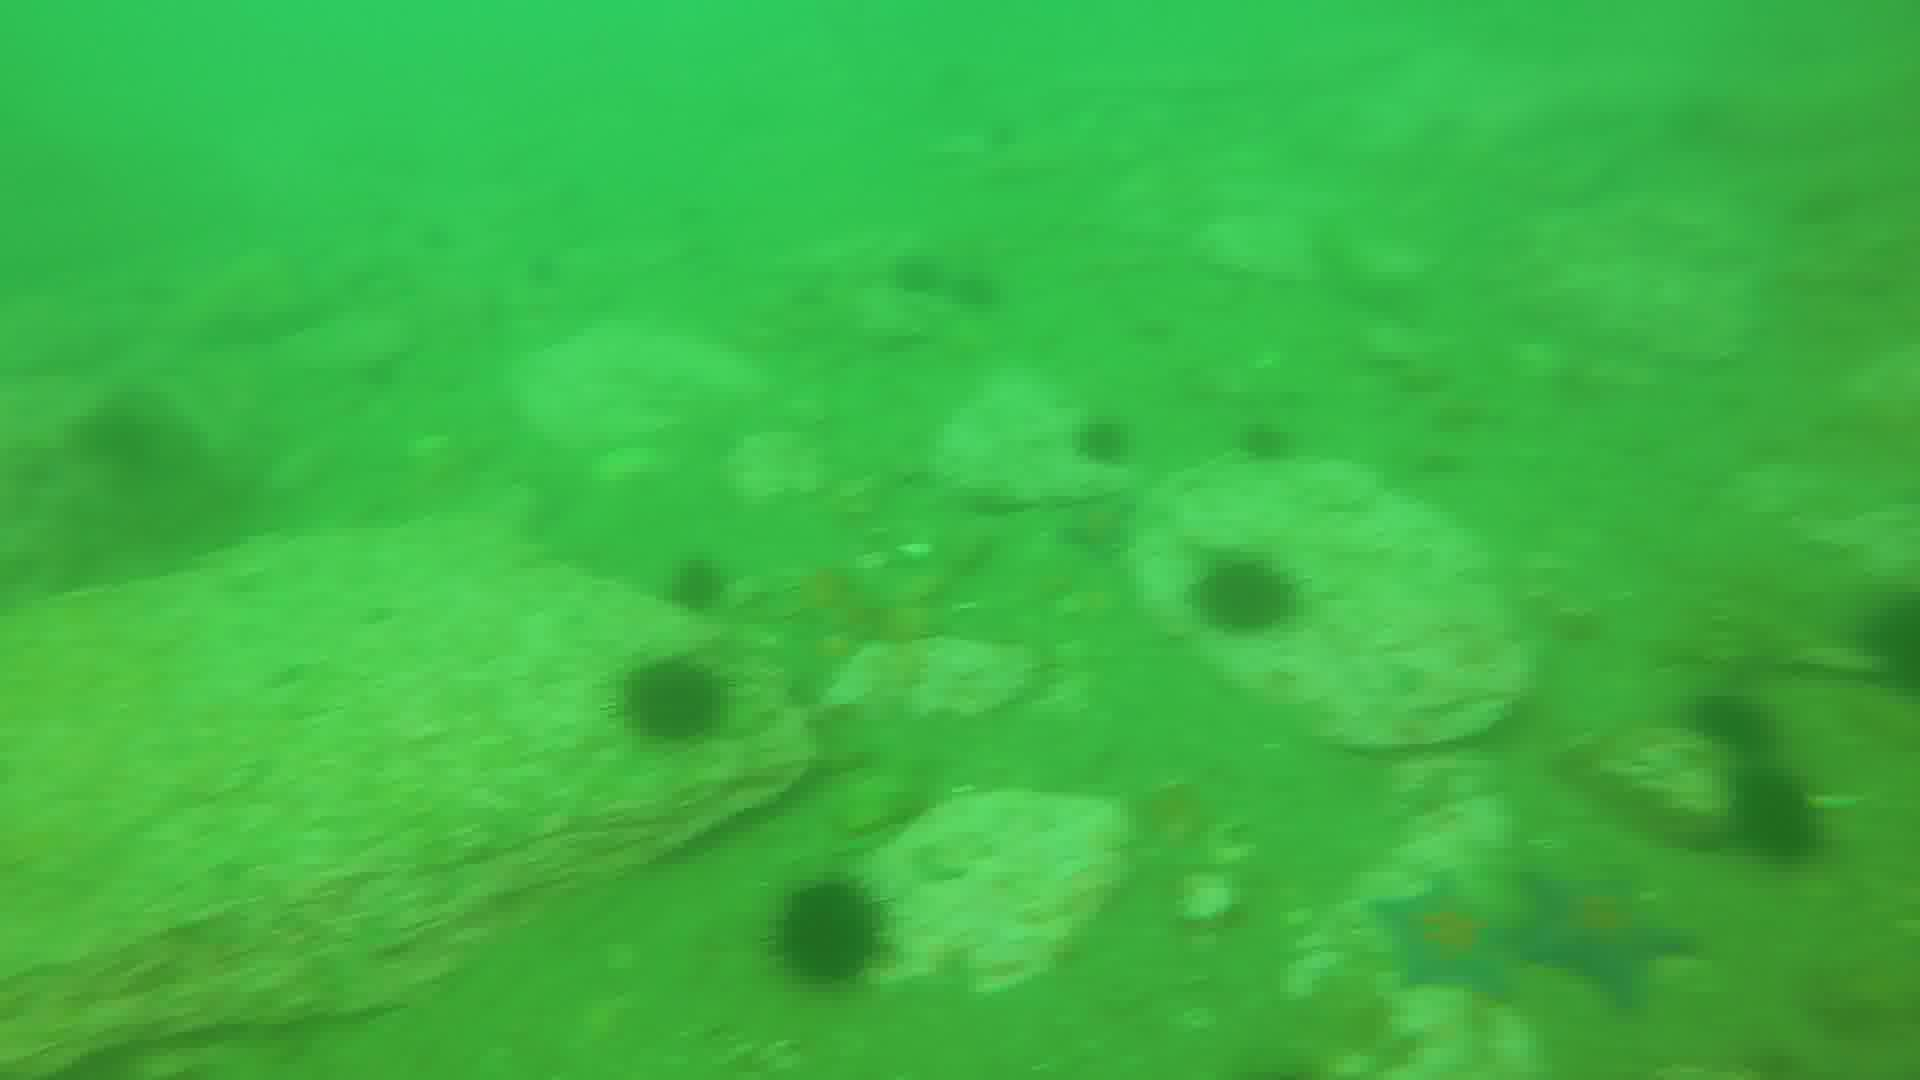echinus: (783, 889, 885, 982), (625, 657, 731, 746), (1191, 558, 1302, 641), (1726, 767, 1826, 858), (1859, 593, 1920, 695), (1691, 688, 1776, 758), (667, 558, 733, 622), (887, 255, 949, 306), (949, 266, 1001, 320), (1238, 418, 1290, 467), (1072, 423, 1126, 469)
starfish: (1526, 865, 1704, 1013), (1379, 872, 1542, 1021), (752, 618, 864, 708), (1135, 764, 1222, 866), (1067, 500, 1142, 560)
